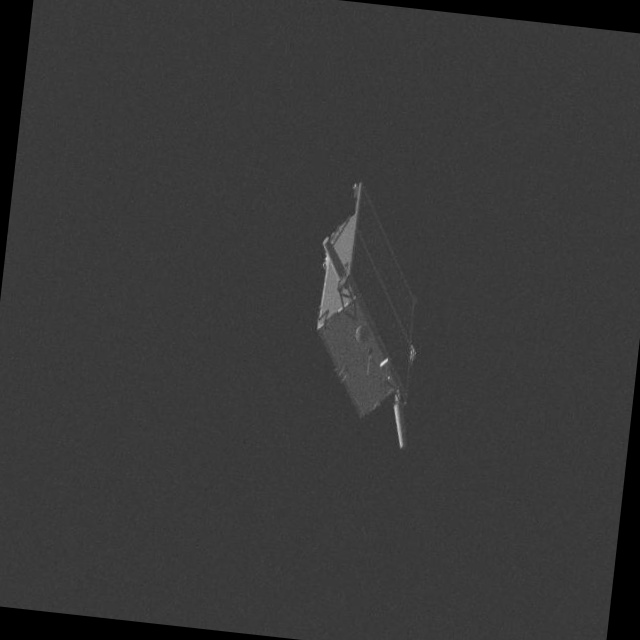medium_debris: (276, 176, 465, 460)
